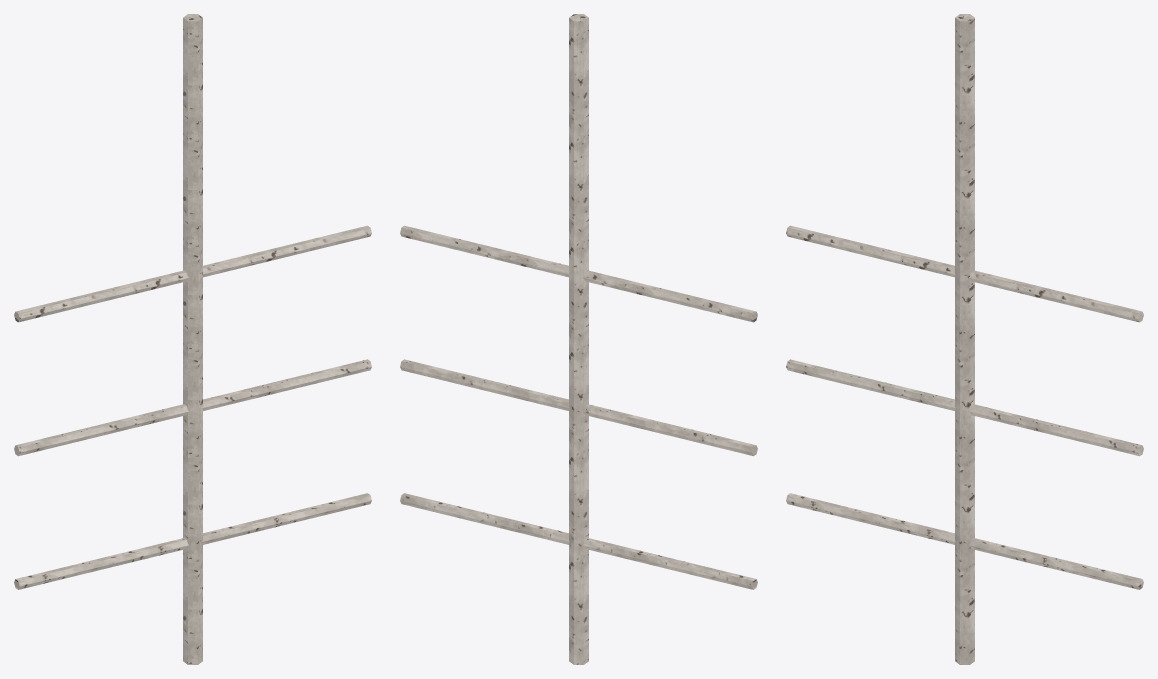
Rendered from viga6.glb.
3 renders of one model, left to right at view 1: azimuth 30°, elevation 25°; view 2: azimuth 150°, elevation 25°; view 3: azimuth 330°, elevation 25°, orthographic.
Visible parts, largest first — view 1: Antenna_0; view 2: Antenna_0; view 3: Antenna_0.
Part boxes in pixels (left/top/right/bottom): Antenna_0: left=14, top=14, right=371, bottom=664; Antenna_0: left=400, top=14, right=757, bottom=664; Antenna_0: left=786, top=14, right=1143, bottom=664.
Bounding box in the file's own units: 4.73 × 8.26 × 0.2307.
Materials: 1 (1 with a texture image).
